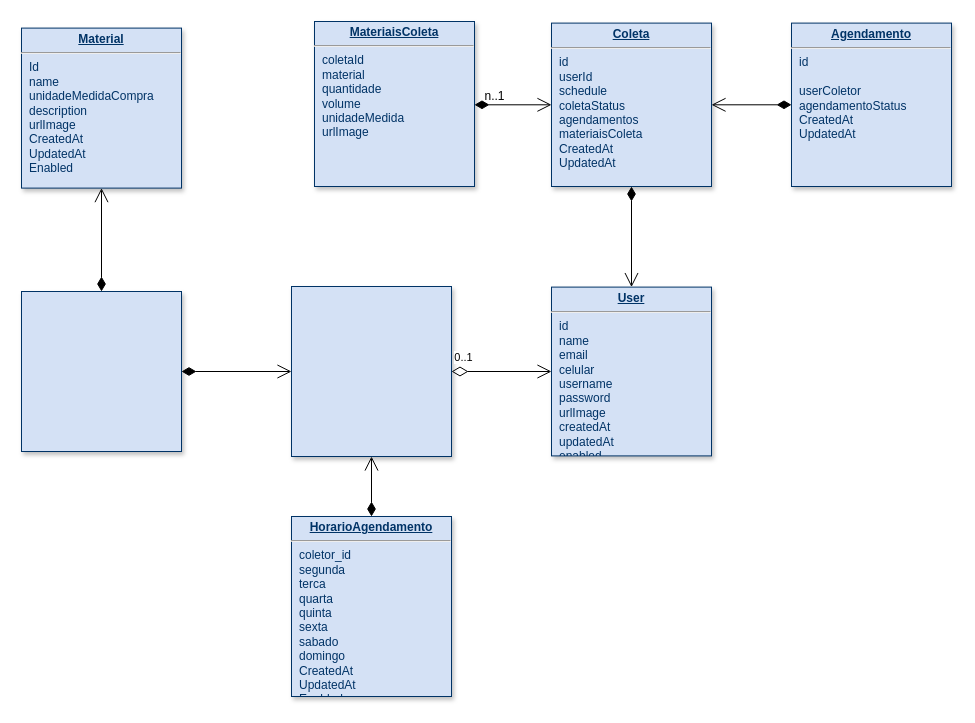
This 975x723 diagram has some shape labels left out. Here are the shapes that lost their labels. From the top down, the centre of each, then its label:
At point (102, 372): "ColetorMaterial coletor_id material_id valorUnidade CreatedAt UpdatedAt Enabled".
At point (372, 373): "Coletor userColetor description CreatedAt UpdatedAt Enabled".
